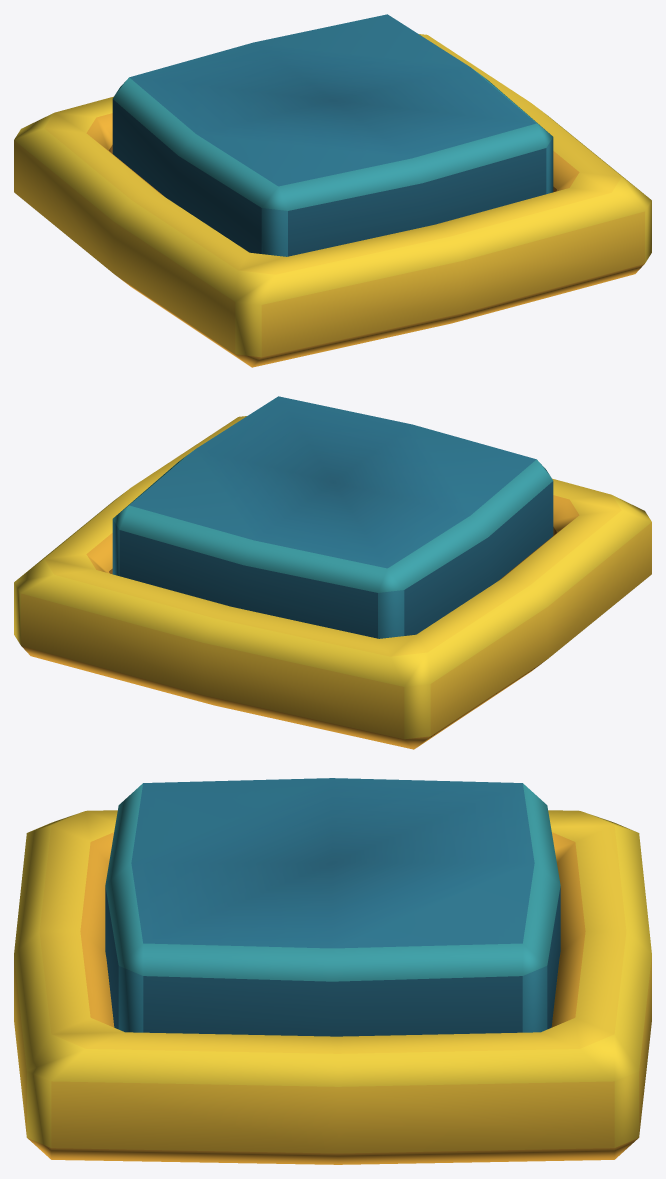
File: switch_floor_blue.fbx
The picture shows the model from 3 angles, top to bottom: view 1: azimuth 30°, elevation 25°; view 2: azimuth 150°, elevation 25°; view 3: azimuth 270°, elevation 25°; orthographic projection. The views are drawn at different scales.
Visible parts, largest first — view 1: switch_floor_blue_plate, switch_floor_blue; view 2: switch_floor_blue_plate, switch_floor_blue; view 3: switch_floor_blue, switch_floor_blue_plate.
Part boxes in pixels (x1,y1,x2,y2): switch_floor_blue_plate: [112, 14, 553, 256]; switch_floor_blue: [14, 34, 651, 367]; switch_floor_blue_plate: [112, 396, 553, 638]; switch_floor_blue: [14, 416, 651, 749]; switch_floor_blue: [14, 810, 651, 1164]; switch_floor_blue_plate: [105, 778, 560, 1036].
Bounding box in the file's own units: 130 × 40 × 130.
